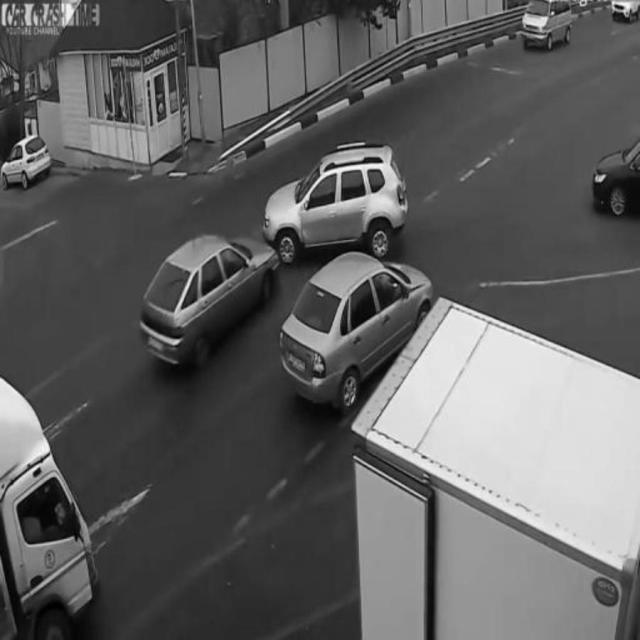vehicle: (0, 381, 100, 639), (278, 253, 434, 403), (142, 226, 276, 378), (264, 133, 410, 257), (586, 135, 640, 213), (2, 129, 64, 195), (515, 1, 577, 57)
